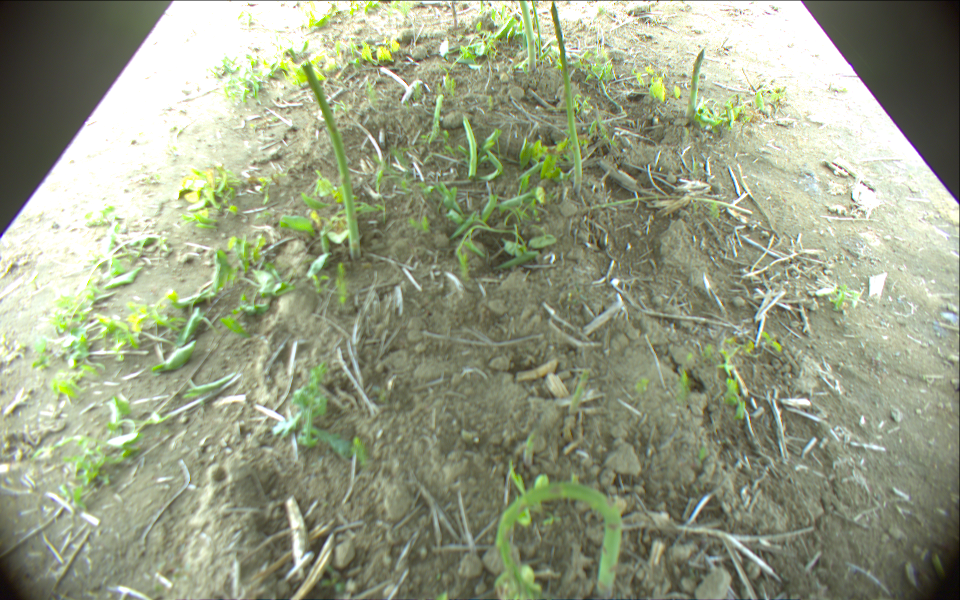aspa: (494, 481, 623, 600), (299, 62, 364, 261), (549, 1, 582, 191), (575, 193, 753, 217), (688, 48, 707, 121), (518, 1, 537, 71), (462, 116, 479, 177), (528, 1, 543, 61), (433, 93, 445, 135), (451, 1, 459, 27)
